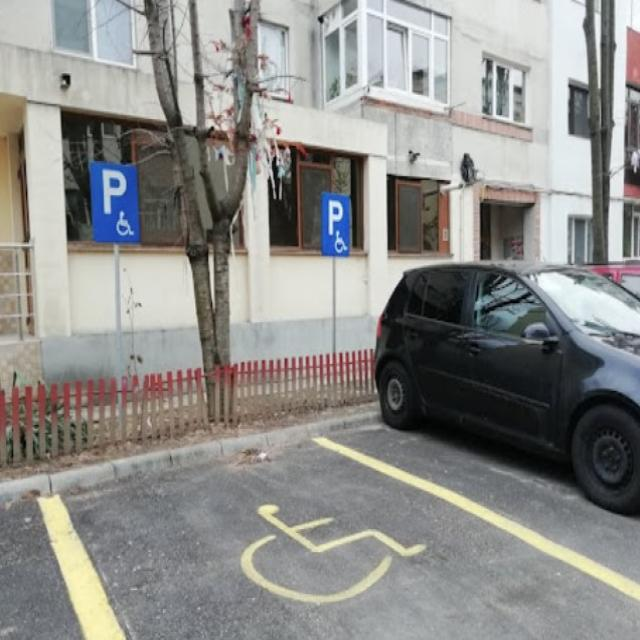symbol_of_access: (114, 206, 136, 239), (329, 228, 350, 255)
